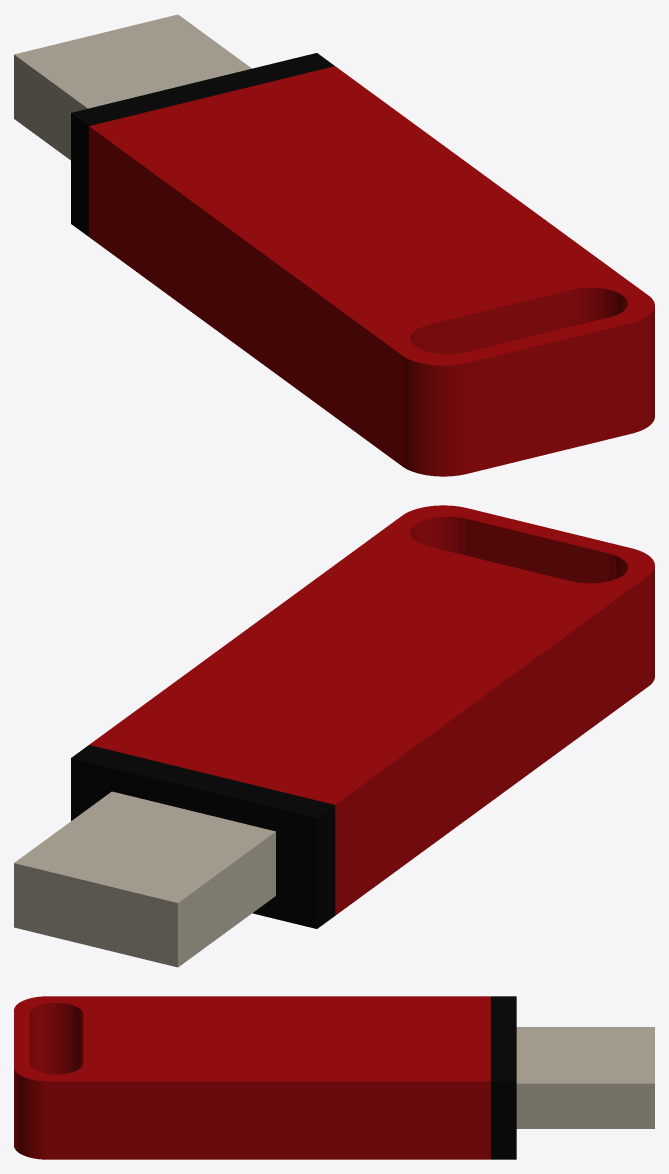
The model's file is USB.obj.
3 views of the same model, one above another, from view 1: azimuth 30°, elevation 25°; view 2: azimuth 150°, elevation 25°; view 3: azimuth 270°, elevation 25° (orthographic). The views are drawn at different scales.
Parts seen in each view (by area): view 1: thinkplus_usb_drive_watertight; view 2: thinkplus_usb_drive_watertight; view 3: thinkplus_usb_drive_watertight.
Boxes of the visible parts, left/top/right/bottom form: thinkplus_usb_drive_watertight: left=14, top=14, right=654, bottom=476; thinkplus_usb_drive_watertight: left=14, top=505, right=654, bottom=967; thinkplus_usb_drive_watertight: left=14, top=996, right=654, bottom=1159.
Size of the model in its own units: 0.018 by 0.00775 by 0.0574.
